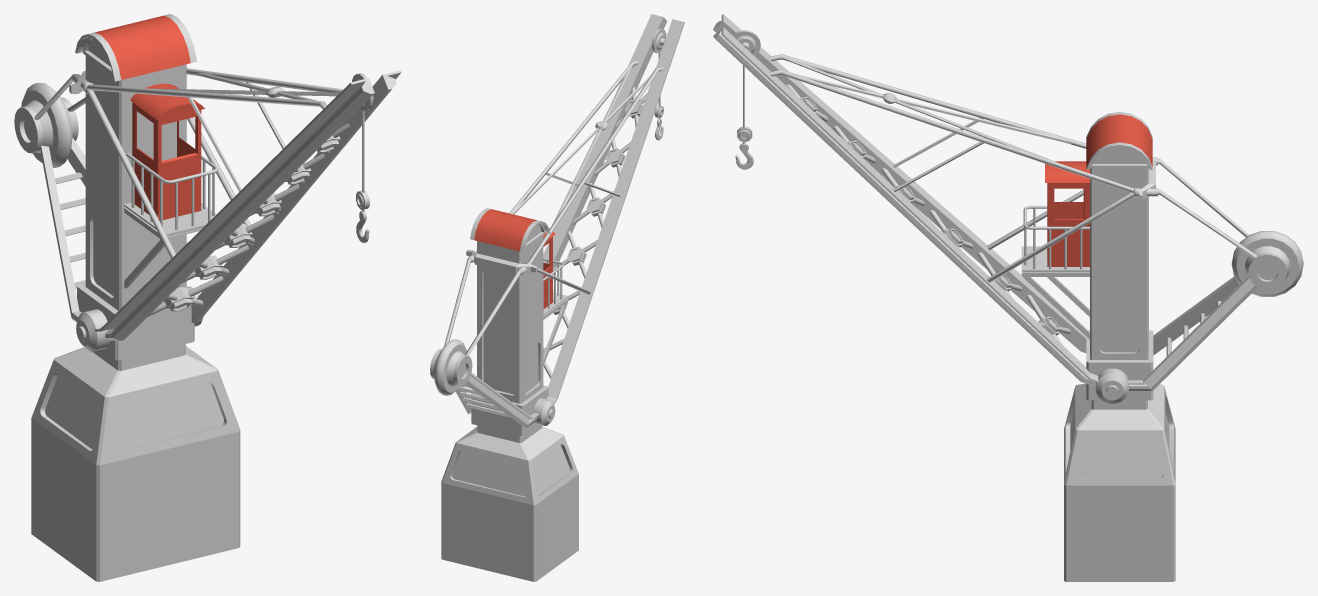
File: Crane-M00A.fbx
3 renders of one model, left to right at view 1: azimuth 30°, elevation 25°; view 2: azimuth 150°, elevation 25°; view 3: azimuth 270°, elevation 25°, orthographic. The views are drawn at different scales.
Parts seen in each view (by area): view 1: Crane-M00A; view 2: Crane-M00A; view 3: Crane-M00A.
Boxes of the visible parts, box(x1,y1,x2,y2) form: Crane-M00A: box(14, 14, 401, 581); Crane-M00A: box(430, 14, 684, 581); Crane-M00A: box(713, 14, 1303, 581).
Size of the model in its own units: 301 by 1277 by 1291.
